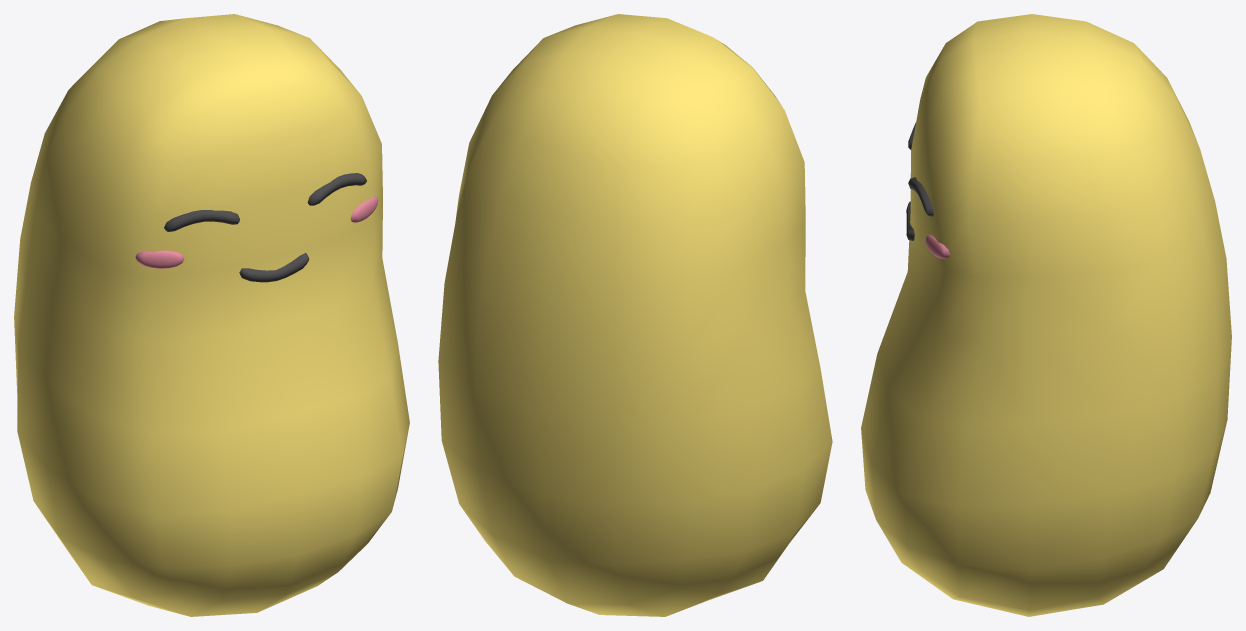
File: Toy_1.glb
3 renders of one model, left to right at view 1: azimuth 30°, elevation 25°; view 2: azimuth 150°, elevation 25°; view 3: azimuth 270°, elevation 25°, orthographic.
Parts seen in each view (by area): view 1: Toy_1; view 2: Toy_1; view 3: Toy_1.
Part boxes in pixels (x1=…): Toy_1: x1=14, y1=14, x2=409, y2=616; Toy_1: x1=438, y1=14, x2=832, y2=616; Toy_1: x1=861, y1=14, x2=1231, y2=616.
Bounding box in the file's own units: 0.2417 × 0.3881 × 0.2317.
Materials: 1 (1 with a texture image).
